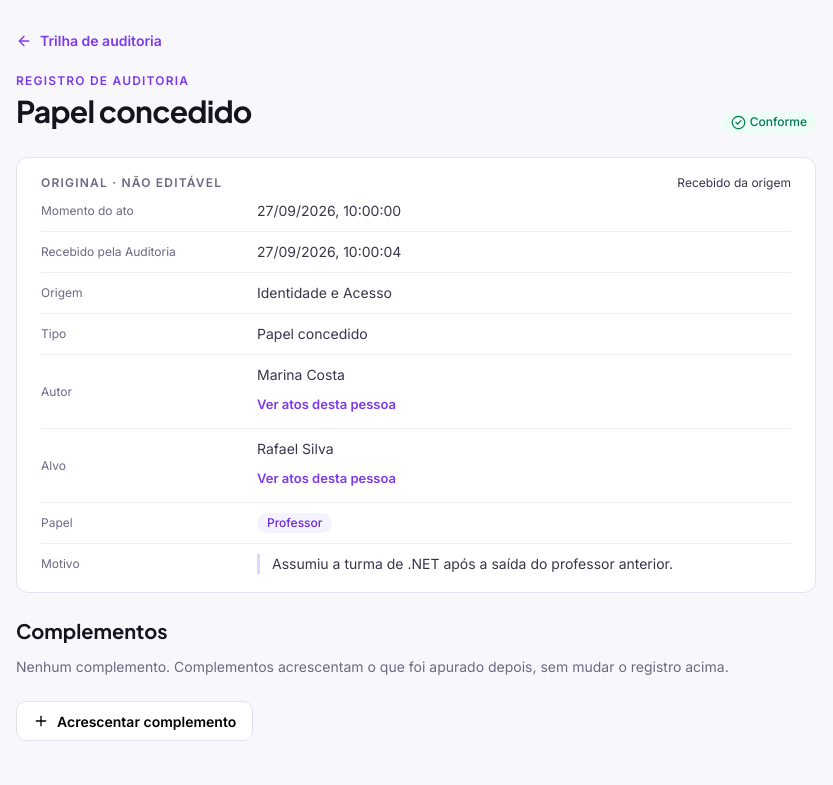
audit complement confirmation › opens an inline explanation form with the counter and irreversible notice
This screenshot has width=833, height=785.
Click the button "Acrescentar complemento".
click(135, 721)  # box top-left (16, 701), bottom-right (253, 741)
(page scrolled)
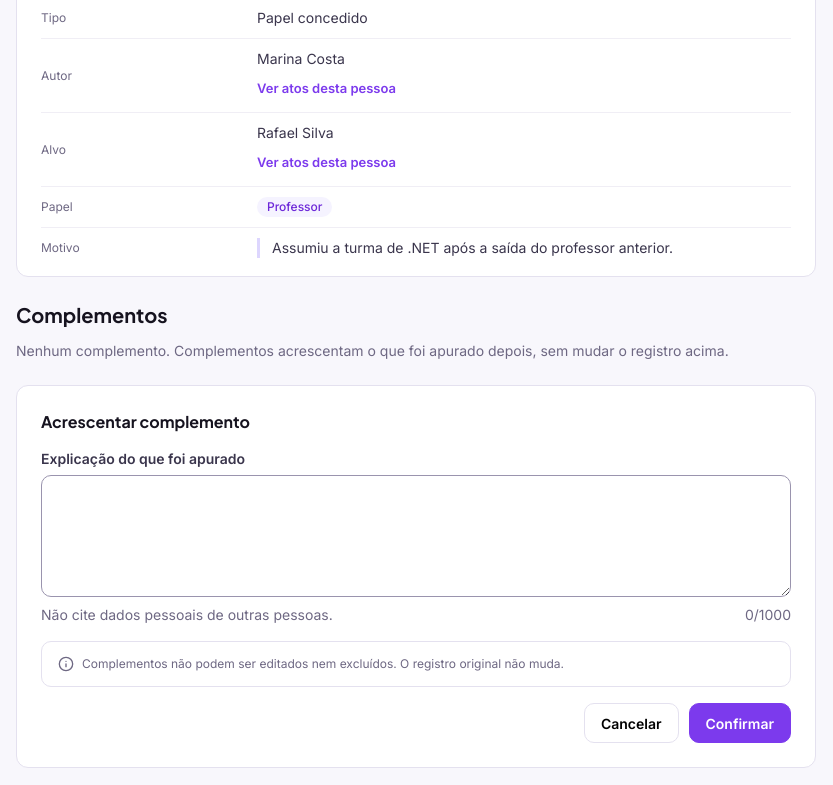
Check: the text "0/1000" is shown, box top-left (745, 605), bottom-right (791, 625)
Check: the text "Complementos não podem ser editados nem excluídos. O registro original não muda." is shown, box top-left (82, 656), bottom-right (564, 672)
